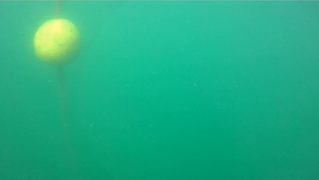buoy: (32, 18, 83, 68)
